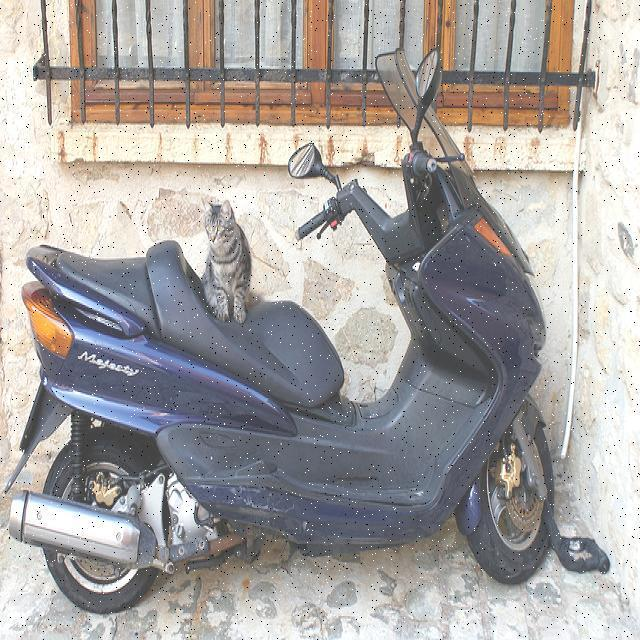motorcycle: (5, 49, 567, 615)
